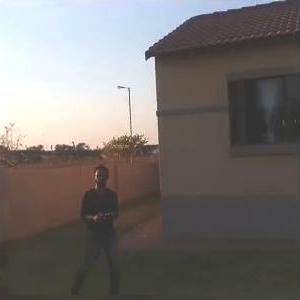follow: (71, 159, 132, 298)
